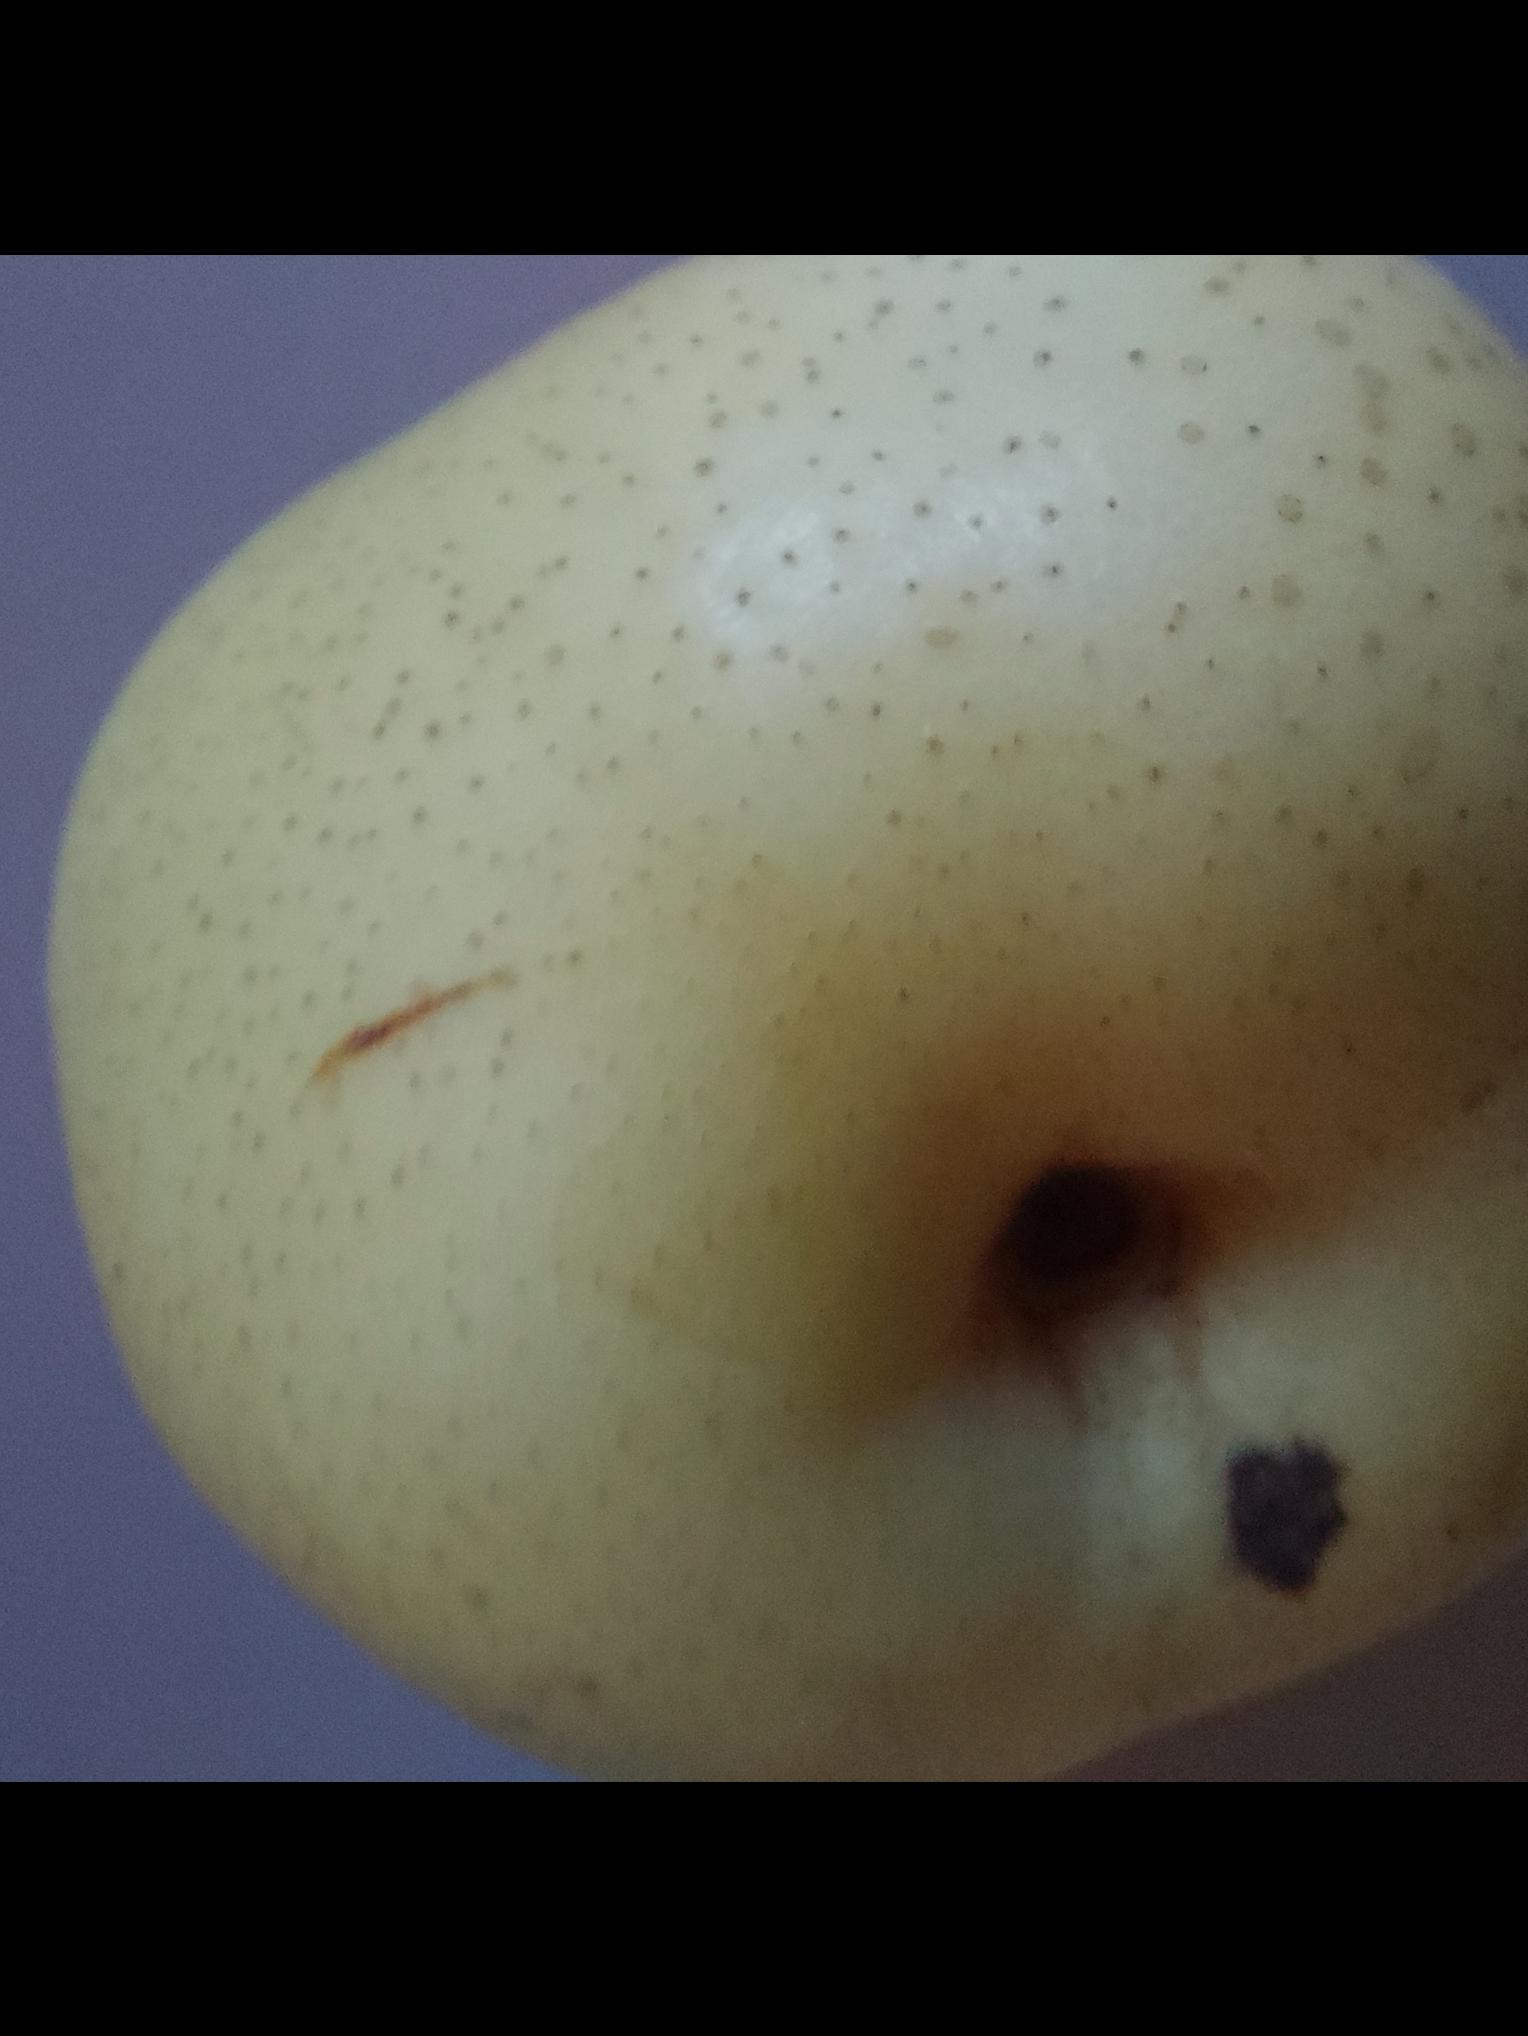Good Pear: (22, 253, 1528, 1783)
